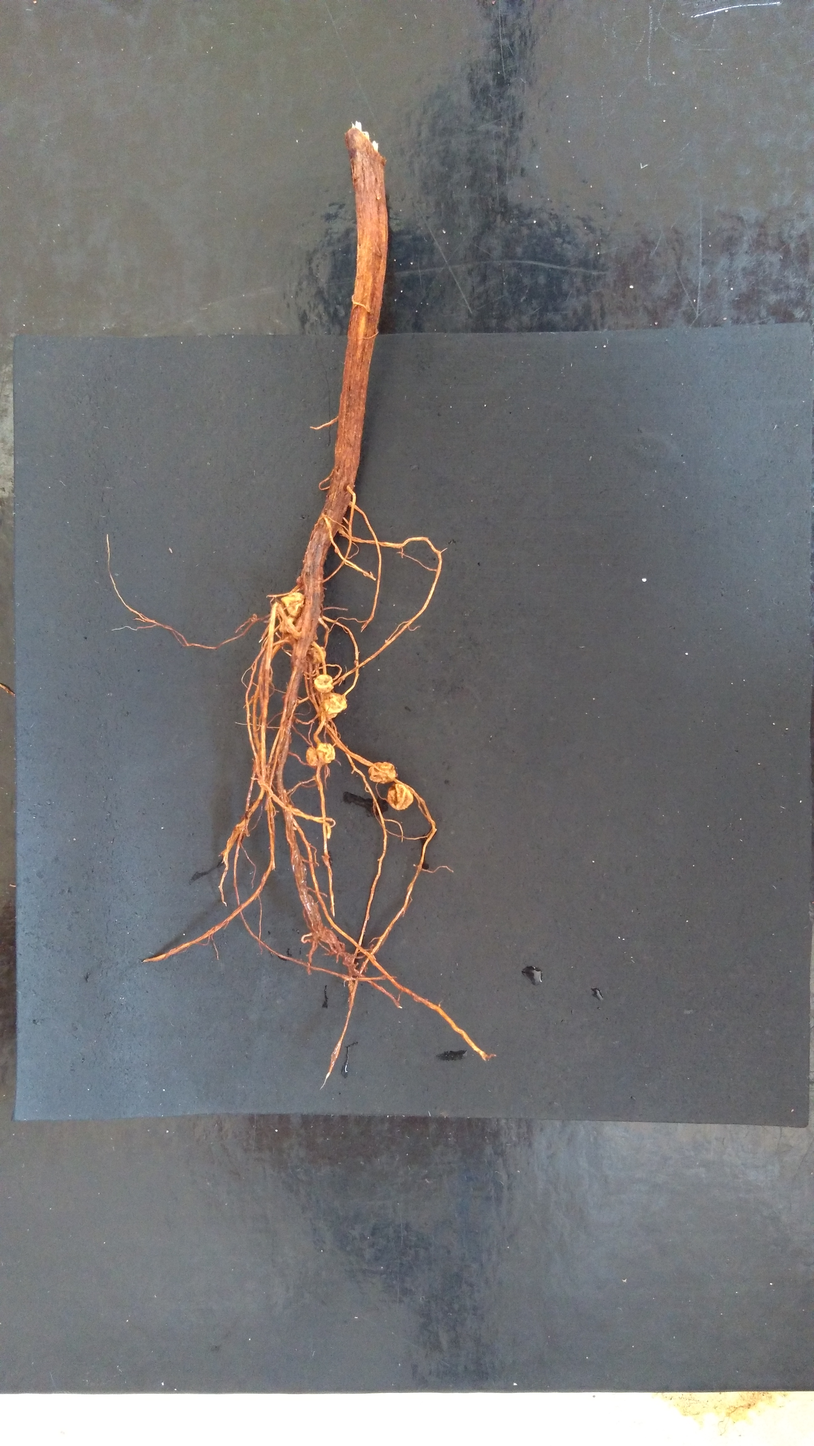nodule: (384, 782, 414, 812), (321, 691, 348, 721), (367, 760, 398, 785), (280, 591, 306, 617), (310, 672, 334, 694), (316, 741, 336, 765), (306, 645, 328, 665), (277, 615, 297, 633), (305, 746, 319, 768)
